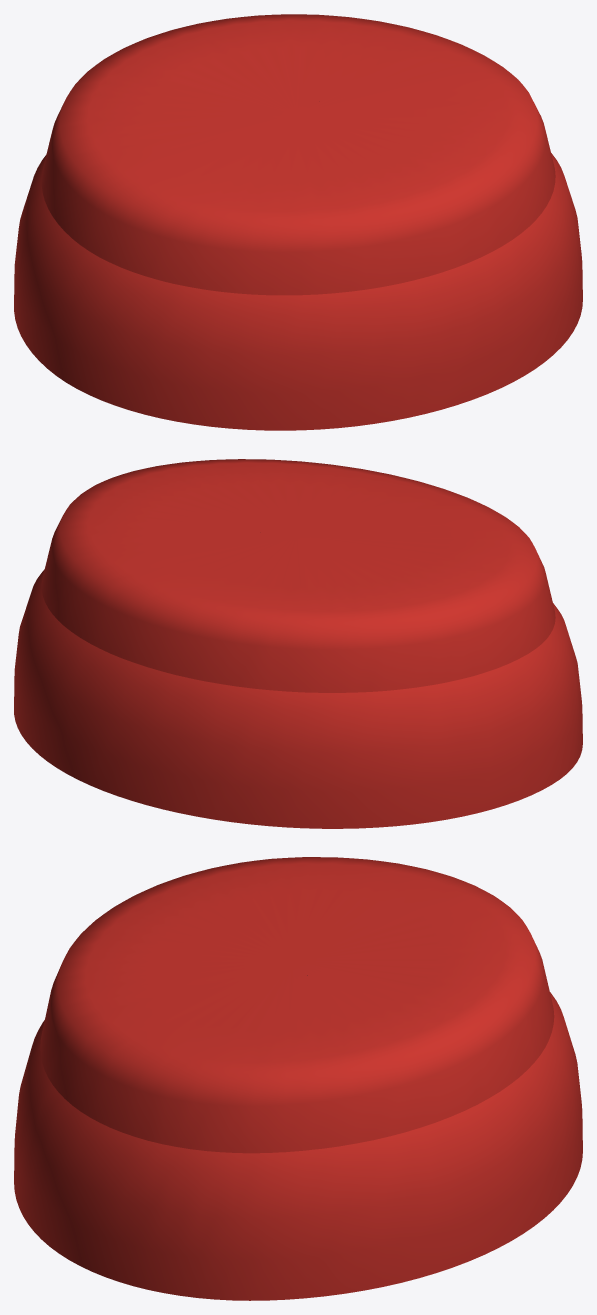
Rendered from hw_fez.glb.
3 renders of one model, top to bottom at view 1: azimuth 30°, elevation 25°; view 2: azimuth 150°, elevation 25°; view 3: azimuth 270°, elevation 25°, orthographic. The views are drawn at different scales.
Parts seen in each view (by area): view 1: hw_fez, hw_fez@short; view 2: hw_fez, hw_fez@short; view 3: hw_fez, hw_fez@short.
Boxes of the visible parts, bbox=[...] form: hw_fez: bbox=[41, 14, 555, 295]; hw_fez@short: bbox=[14, 153, 582, 430]; hw_fez: bbox=[41, 459, 555, 692]; hw_fez@short: bbox=[14, 569, 582, 828]; hw_fez: bbox=[40, 857, 554, 1300]; hw_fez@short: bbox=[14, 992, 582, 1300].
Bounding box in the file's own units: 0.859 × 0.3507 × 0.7758.
